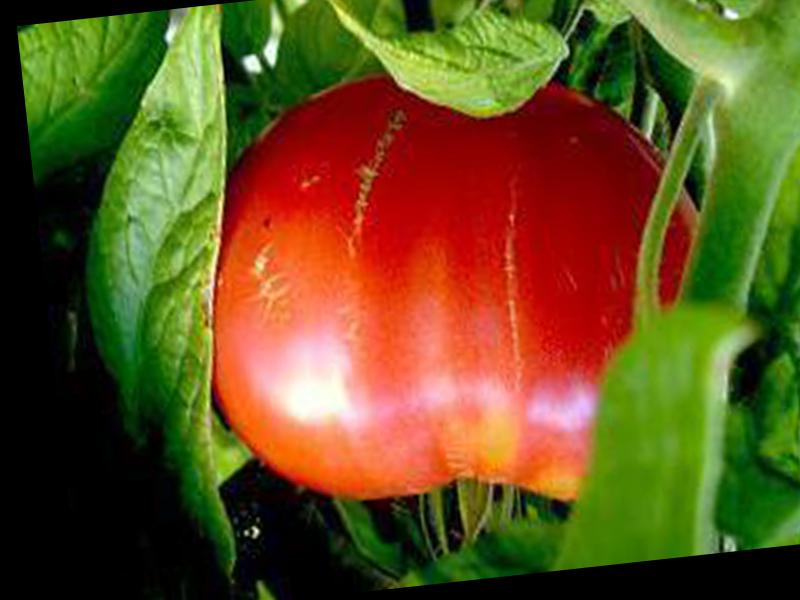Tomato: (176, 44, 726, 540)
